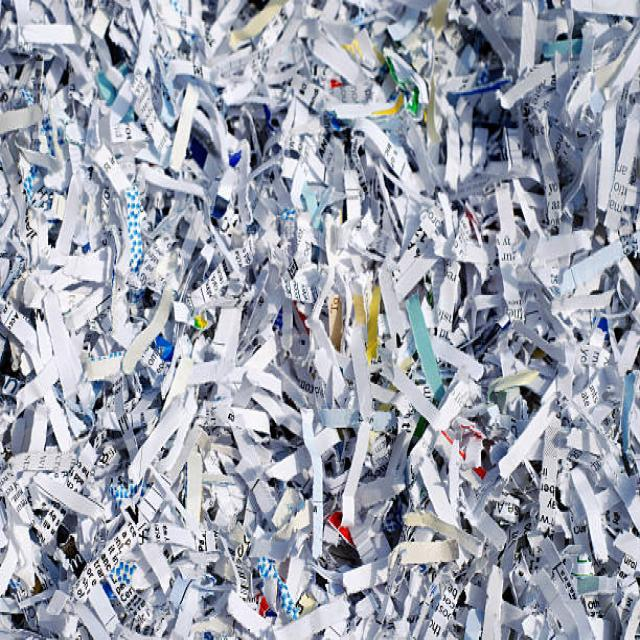paper: (31, 83, 596, 592)
